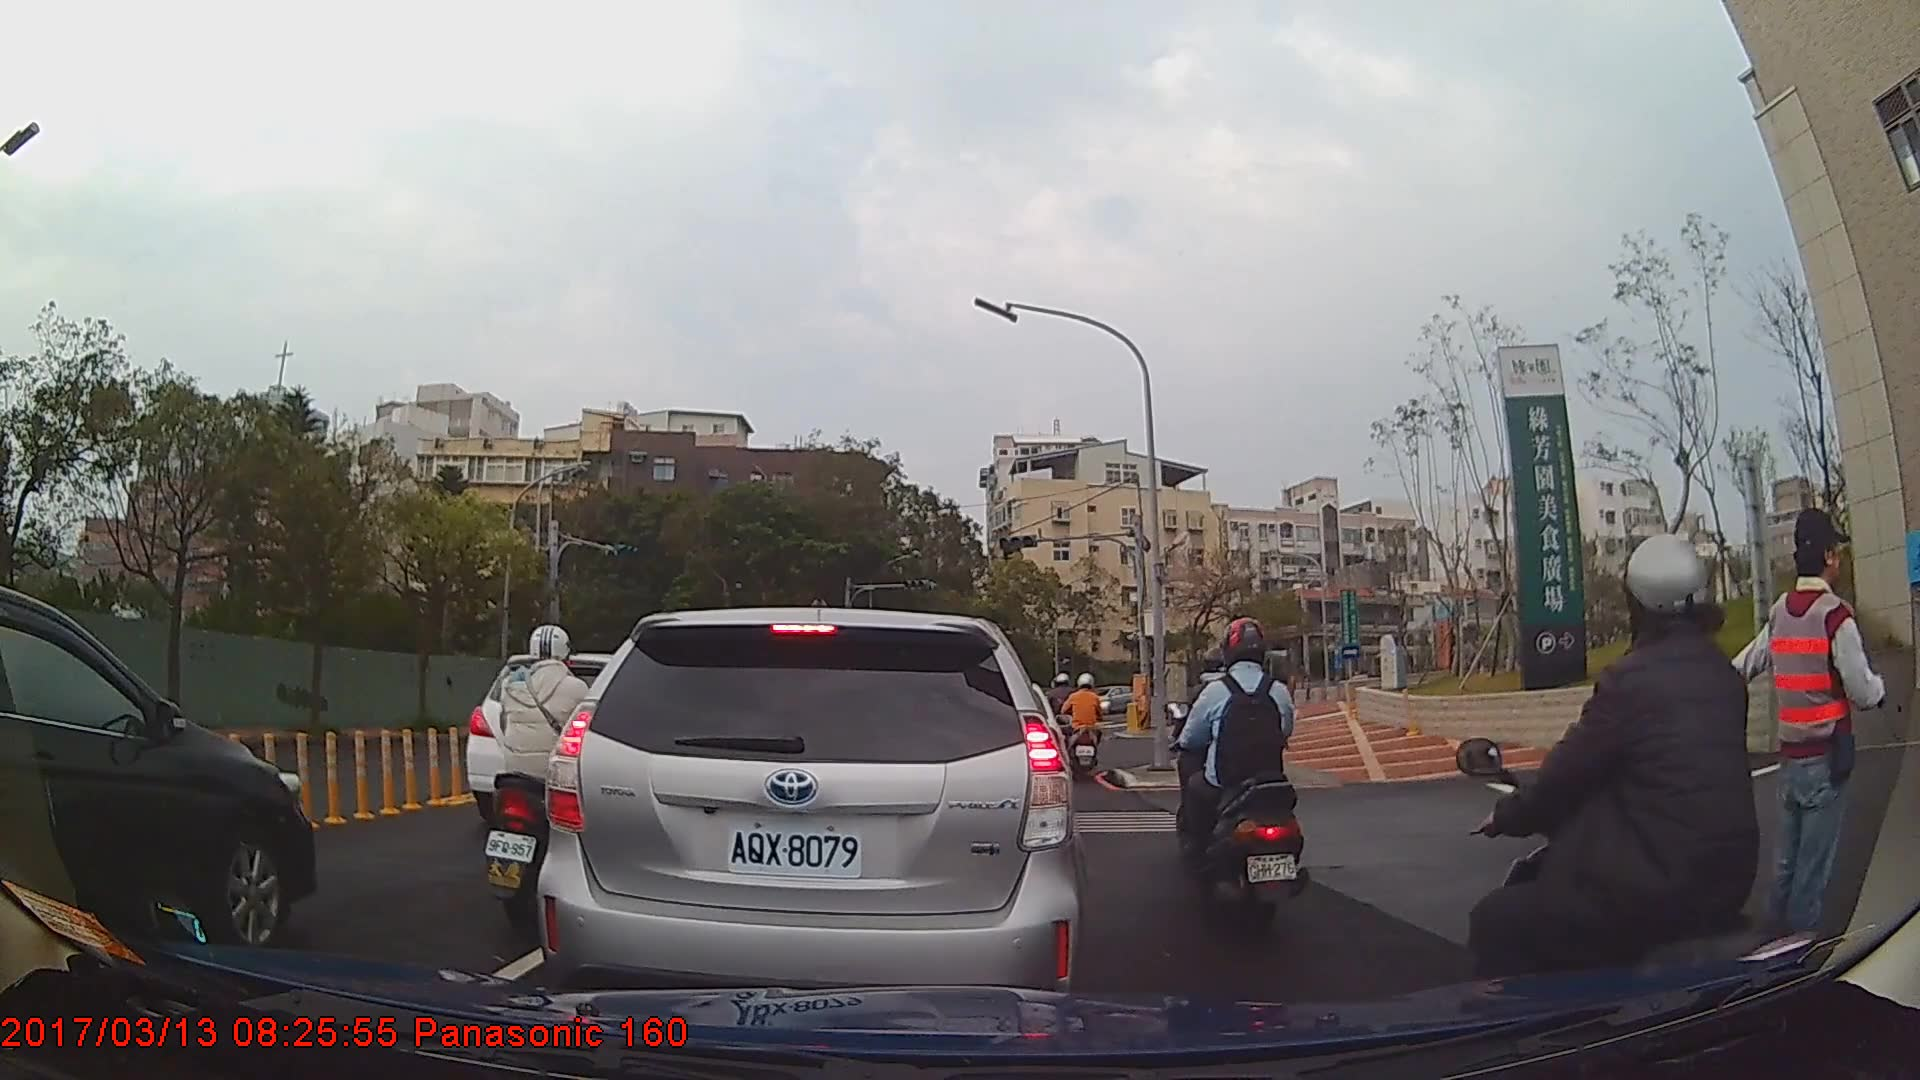pedestrian: (1704, 508, 1888, 997)
rider: (1464, 533, 1807, 1071), (1169, 619, 1301, 941), (484, 624, 620, 927), (1063, 670, 1107, 773)
vehicle: (535, 606, 1085, 1011), (0, 582, 315, 964)
